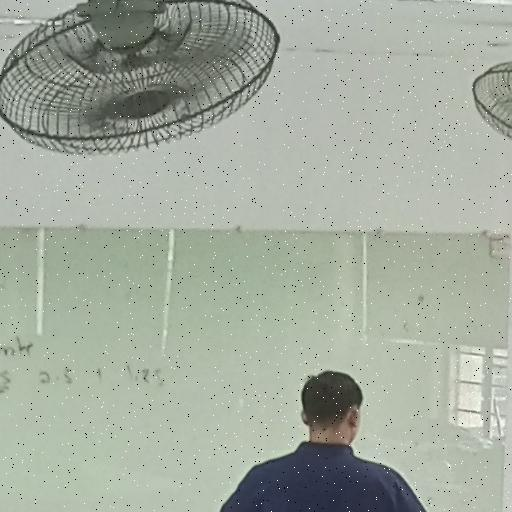Fan: (0, 0, 297, 169), (450, 14, 512, 179)
